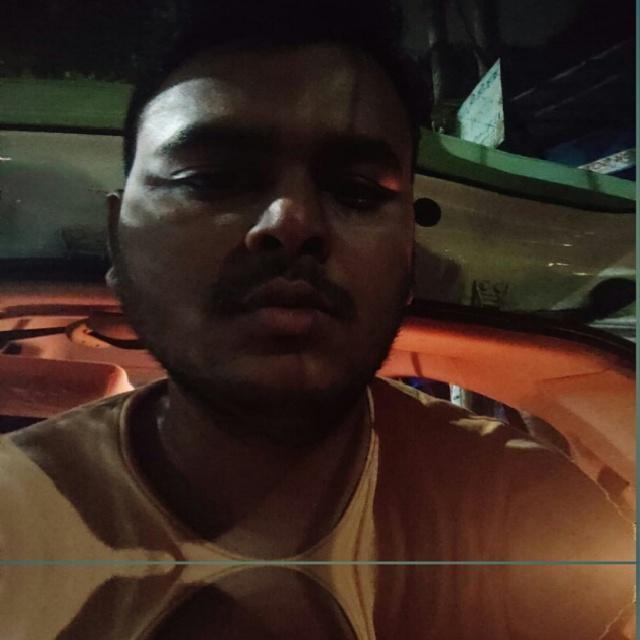Angry: (106, 38, 431, 425)
